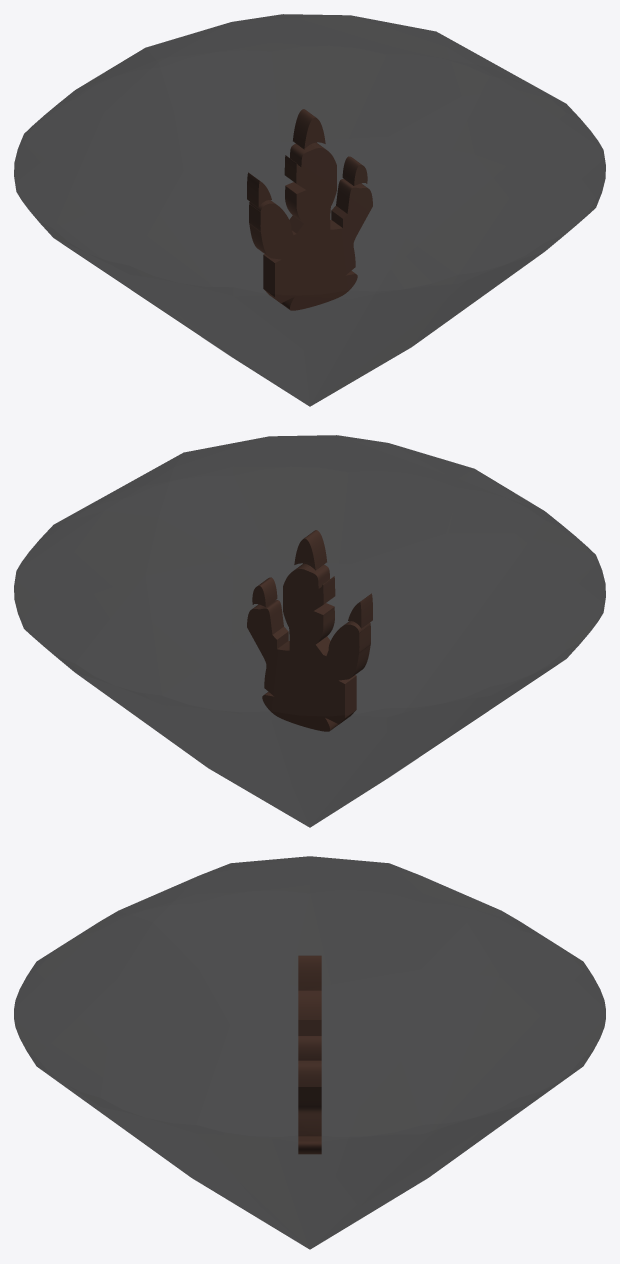
The model's file is Jewel_Model.glb.
3 renders of one model, top to bottom at view 1: azimuth 30°, elevation 25°; view 2: azimuth 150°, elevation 25°; view 3: azimuth 270°, elevation 25°, orthographic.
Visible parts, largest first — view 1: diamondpink_dmesh.004.2, Layer 01.1; view 2: diamondpink_dmesh.004.2, Layer 01.1; view 3: diamondpink_dmesh.004.2, Layer 01.1.
Part boxes in pixels (box(x1,y1,x2,y2)): diamondpink_dmesh.004.2: box(14, 14, 605, 406); Layer 01.1: box(247, 109, 372, 310); diamondpink_dmesh.004.2: box(14, 435, 605, 827); Layer 01.1: box(247, 530, 372, 731); diamondpink_dmesh.004.2: box(14, 856, 605, 1249); Layer 01.1: box(298, 955, 321, 1154).
Bounding box in the file's own units: 51.2 × 31.23 × 51.2.
